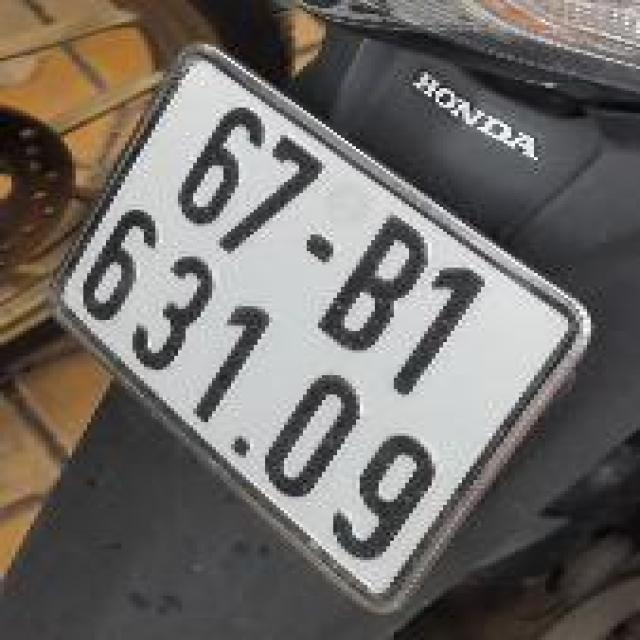0: (251, 360, 381, 514)
1: (364, 253, 500, 410), (168, 294, 287, 435)
3: (118, 246, 230, 384)
6: (162, 97, 281, 239), (69, 202, 174, 333)
7: (207, 129, 334, 275)
9: (317, 420, 451, 578)
B: (307, 206, 444, 368)
